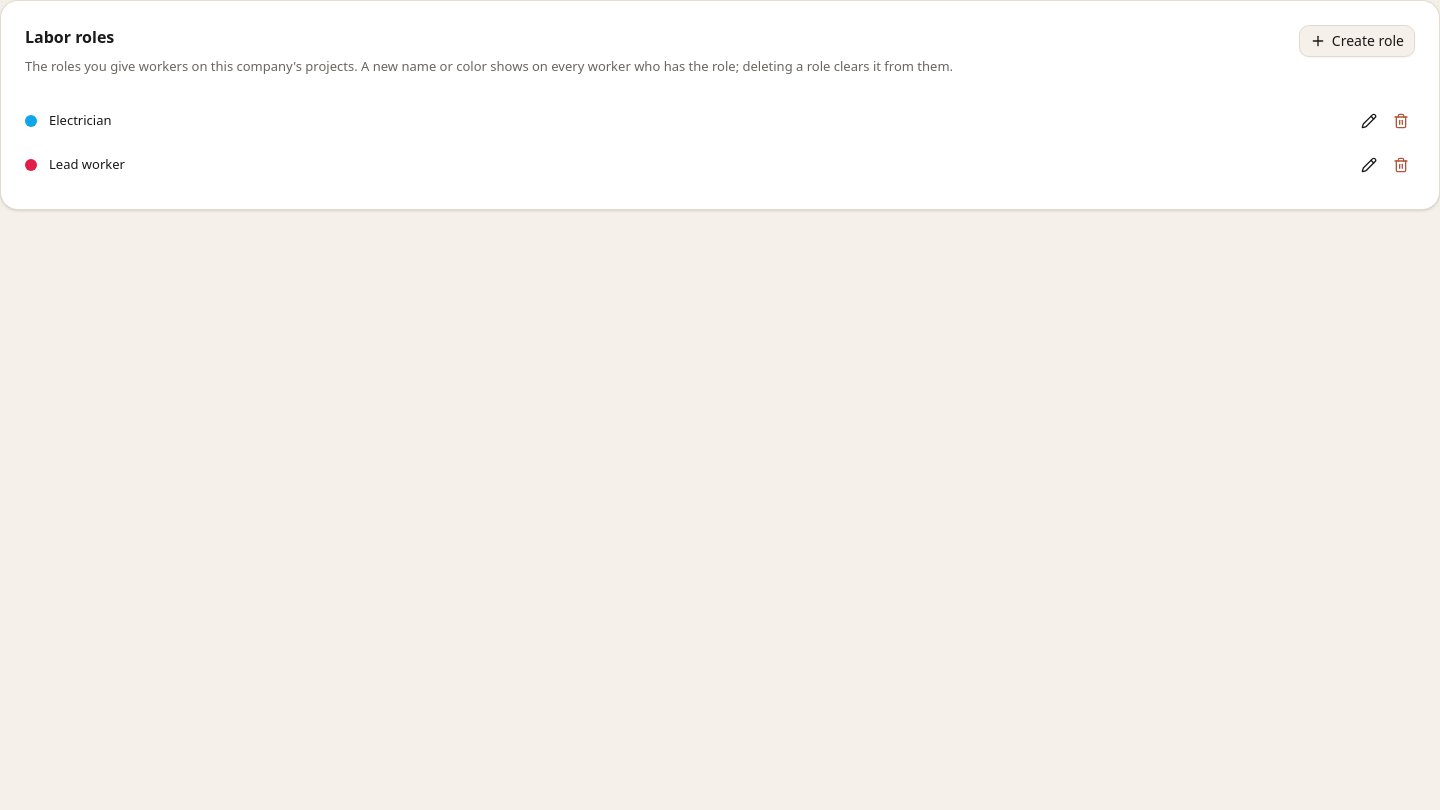
Test case: CompanyLaborRolesCard › keeps the dialog up with the backend's reason when a delete is refused
The image size is (1440, 810).
Expected: the text "Electrician" is shown, [49,111,112,129]
Click the button named "Delete Electrician". click: (1401, 120)
box: [1387,106,1415,134]
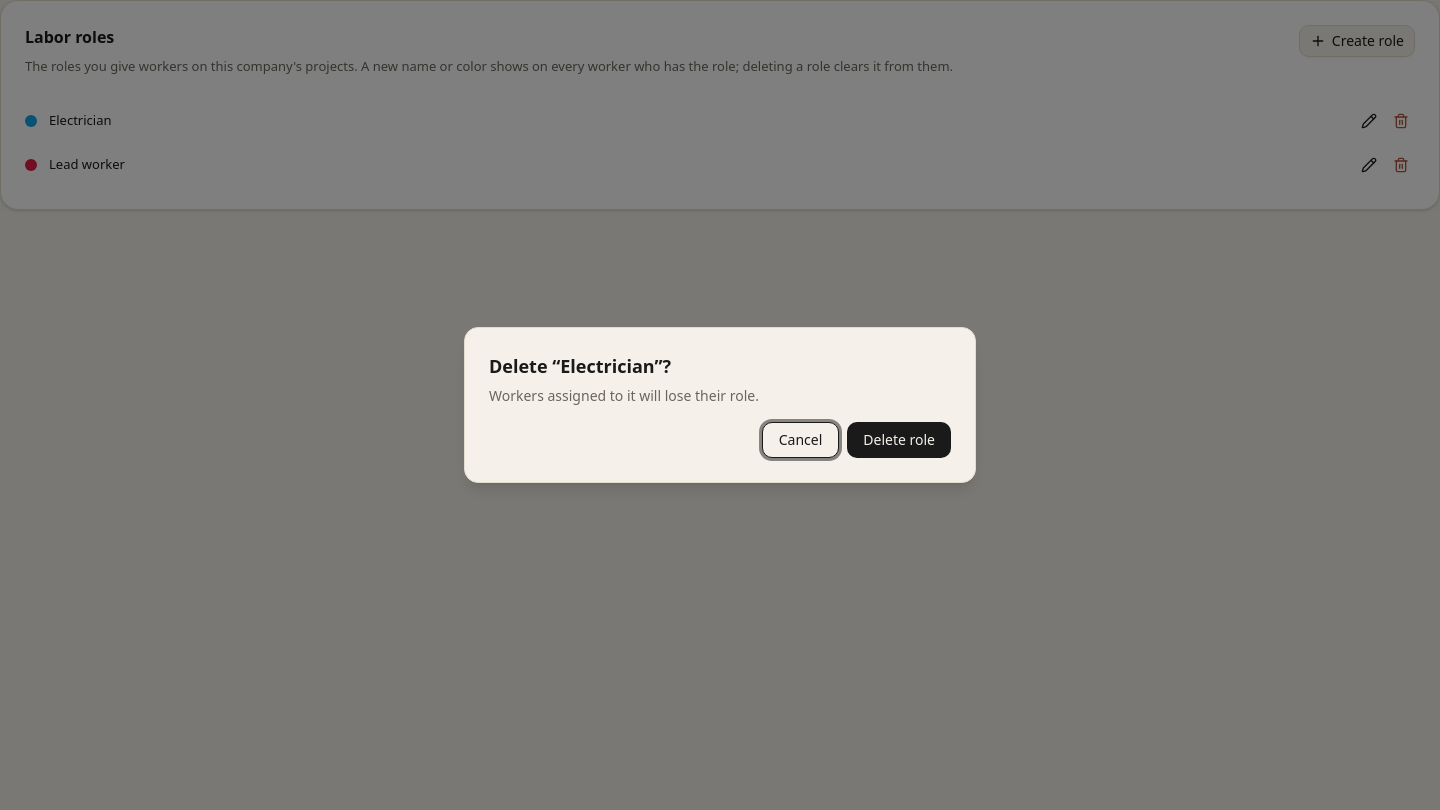
Click the button "Delete role". click: (899, 440)
box: [847,422,951,458]
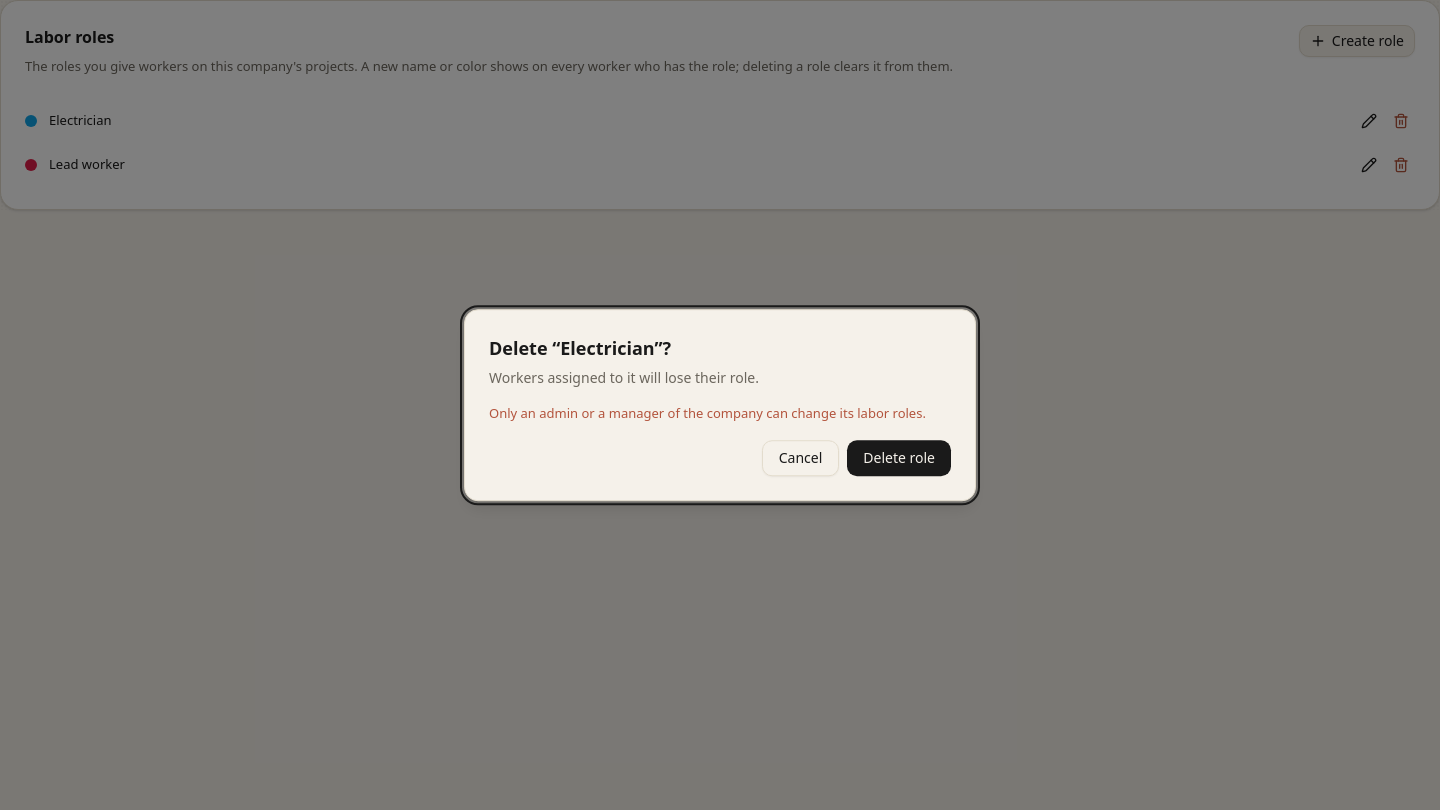
Expected: the text "Electrician" is shown, [49,111,112,129]
Expected: the dialog is shown, [464,309,976,501]
Expected: the message reads "Only an admin or a manager of the company can change its labor roles.", [489,404,926,422]
